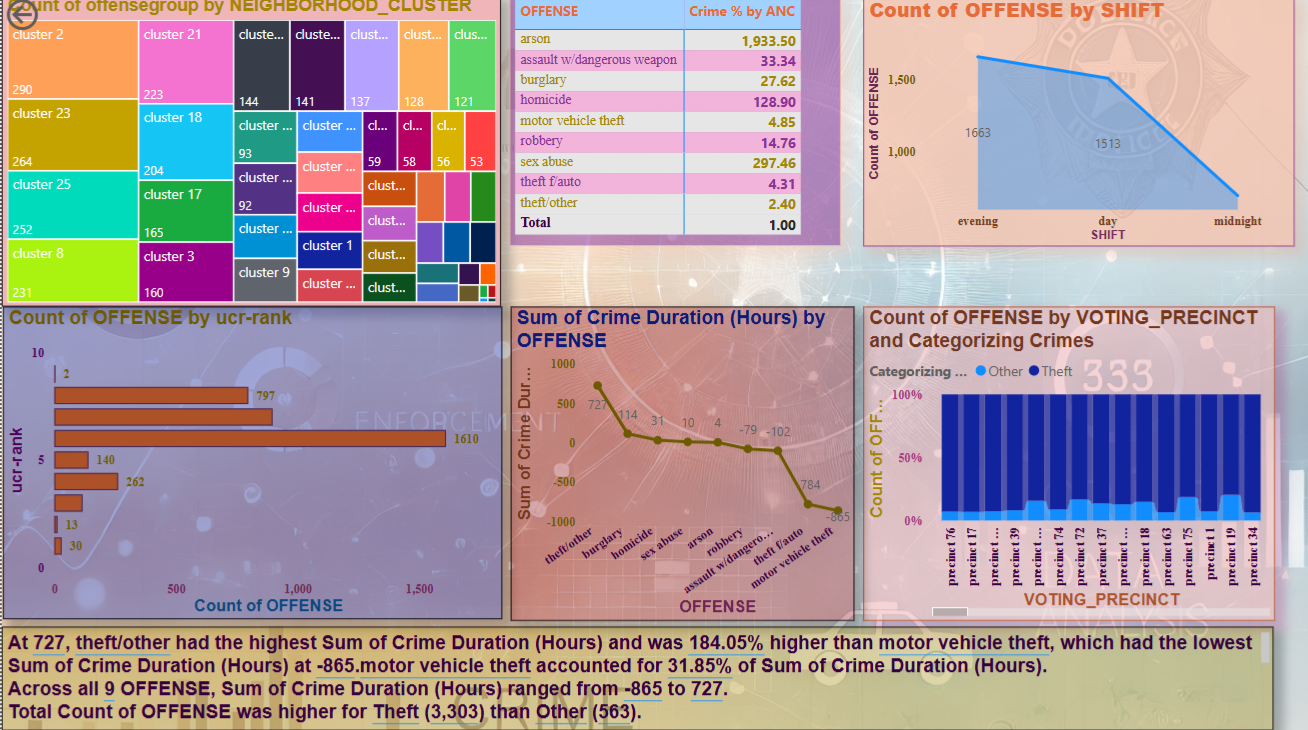

The page's visual inventory and layout, read from the dashboard file:
{"tool":"powerbi","page":{"name":"Page 2","canvas":[1280,720],"ordinal":1},"visuals":[{"type":"treemap","fields":{"Details":["Onyx Data -DataDNA Dataset Chal.NEIGHBORHOOD_CLUSTER"],"Values":["CountNonNull(Onyx Data -DataDNA Dataset Chal.offensegroup)"]},"box":[0,0,487.7,305.6],"z":0},{"type":"clusteredBarChart","fields":{"Category":["Onyx Data -DataDNA Dataset Chal.ucr-rank"],"Y":["CountNonNull(Onyx Data -DataDNA Dataset Chal.OFFENSE)"]},"box":[1.2,305.6,487.7,305.6],"z":1000},{"type":"actionButton","box":[0,0,100.2,40.3],"z":2000},{"type":"pivotTable","fields":{"Rows":["Onyx Data -DataDNA Dataset Chal.OFFENSE"],"Values":["Onyx Data -DataDNA Dataset Chal.Crime % by ANC"]},"box":[496.8,0,324.2,246.3],"z":3000},{"type":"stackedAreaChart","fields":{"Category":["Onyx Data -DataDNA Dataset Chal.SHIFT"],"Y":["CountNonNull(Onyx Data -DataDNA Dataset Chal.OFFENSE)"]},"box":[842.5,1.4,421.3,245.6],"z":4000},{"type":"hundredPercentStackedColumnChart","fields":{"Category":["Onyx Data -DataDNA Dataset Chal.VOTING_PRECINCT"],"Y":["CountNonNull(Onyx Data -DataDNA Dataset Chal.OFFENSE)"],"Series":["Onyx Data -DataDNA Dataset Chal.Categorizing Crimes "]},"box":[842.2,305.6,402.2,306.8],"z":5000},{"type":"lineChart","fields":{"Category":["Onyx Data -DataDNA Dataset Chal.OFFENSE"],"Y":["Sum(Onyx Data -DataDNA Dataset Chal.Crime Duration (Hours))"]},"box":[497.5,305.6,336.2,306.8],"z":6000},{"type":"textbox","box":[0,618.5,1243.2,101.5],"z":6001}]}

Visuals, with their boxes in screenshot pixels (x1, y1, x2, y2), scaled from the page's 1280x720 canvas onto the 1308x730 screenshot:
treemap - Onyx Data -DataDNA Dataset Chal.NEIGHBORHOOD_CLUSTER x CountNonNull(Onyx Data -DataDNA Dataset Chal.offensegroup): <region>0, 0, 498, 310</region>
clusteredBarChart - Onyx Data -DataDNA Dataset Chal.ucr-rank x CountNonNull(Onyx Data -DataDNA Dataset Chal.OFFENSE): <region>1, 310, 500, 620</region>
actionButton: <region>0, 0, 102, 41</region>
pivotTable - Onyx Data -DataDNA Dataset Chal.OFFENSE x Onyx Data -DataDNA Dataset Chal.Crime % by ANC: <region>508, 0, 839, 250</region>
stackedAreaChart - Onyx Data -DataDNA Dataset Chal.SHIFT x CountNonNull(Onyx Data -DataDNA Dataset Chal.OFFENSE): <region>861, 1, 1291, 250</region>
hundredPercentStackedColumnChart - Onyx Data -DataDNA Dataset Chal.VOTING_PRECINCT x CountNonNull(Onyx Data -DataDNA Dataset Chal.OFFENSE): <region>861, 310, 1272, 621</region>
lineChart - Onyx Data -DataDNA Dataset Chal.OFFENSE x Sum(Onyx Data -DataDNA Dataset Chal.Crime Duration (Hours)): <region>508, 310, 852, 621</region>
textbox: <region>0, 627, 1270, 729</region>
